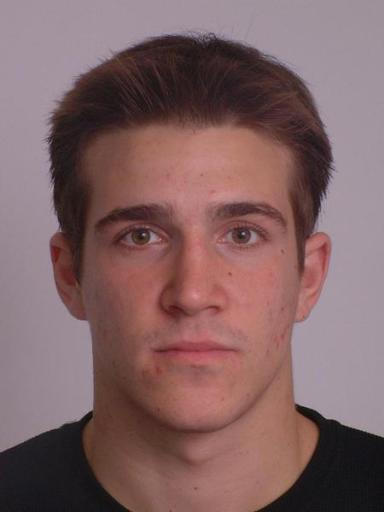left_eye: (218, 223, 271, 251)
left_lip_corner: (228, 343, 244, 362)
right_eye: (112, 224, 170, 251)
right_lip_corner: (149, 343, 164, 362)
